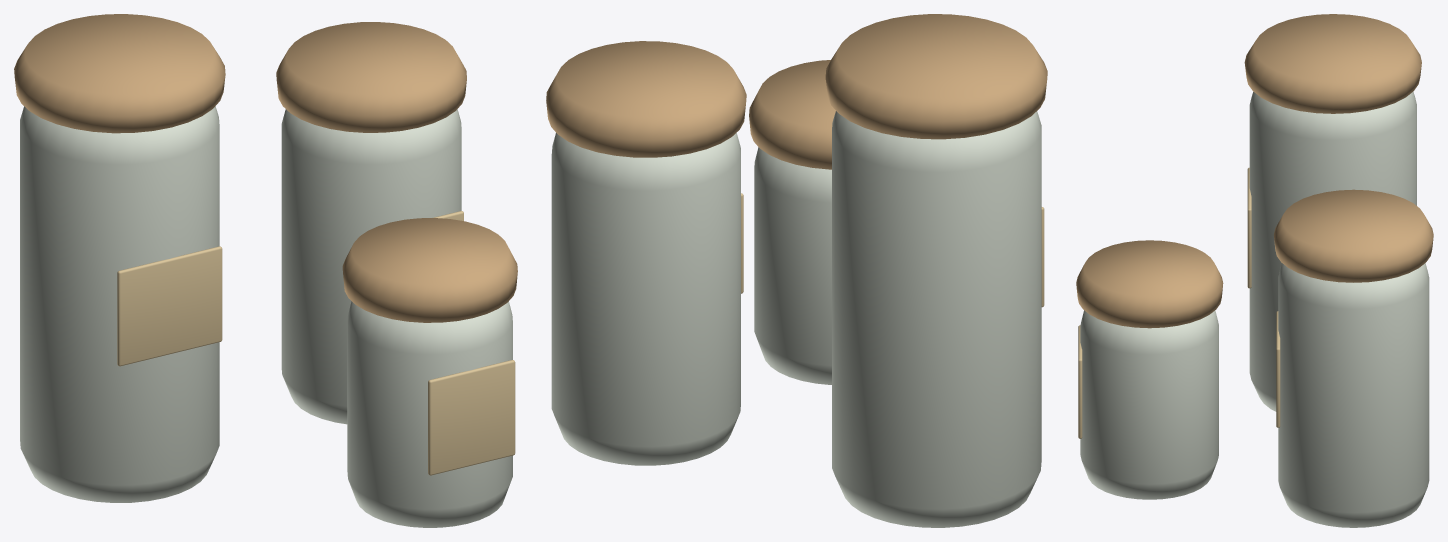
File: storage_jars.glb
3 views of the same model, side by side, from view 1: azimuth 30°, elevation 25°; view 2: azimuth 150°, elevation 25°; view 3: azimuth 270°, elevation 25° (orthographic). The views are drawn at different scales.
Parts seen in each view (by area): view 1: storage_jars__glass, storage_jars__body, storage_jars__contents; view 2: storage_jars__glass, storage_jars__body, storage_jars__contents; view 3: storage_jars__glass, storage_jars__body, storage_jars__contents.
Boxes of the visible parts, x1,y1,x2,y2 form: storage_jars__glass: (20,106,512,527); storage_jars__body: (14,14,517,322); storage_jars__contents: (117,211,515,475); storage_jars__glass: (551,111,1041,527); storage_jars__body: (546,14,1047,169); storage_jars__contents: (741,193,1044,307); storage_jars__glass: (1080,91,1429,527); storage_jars__body: (1076,14,1433,328); storage_jars__contents: (1078,167,1280,438).
Size of the model in its own units: 0.2077 by 0.186 by 0.1753.
